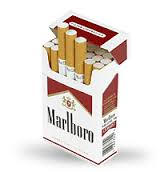marlboro: (42, 70, 99, 163)
